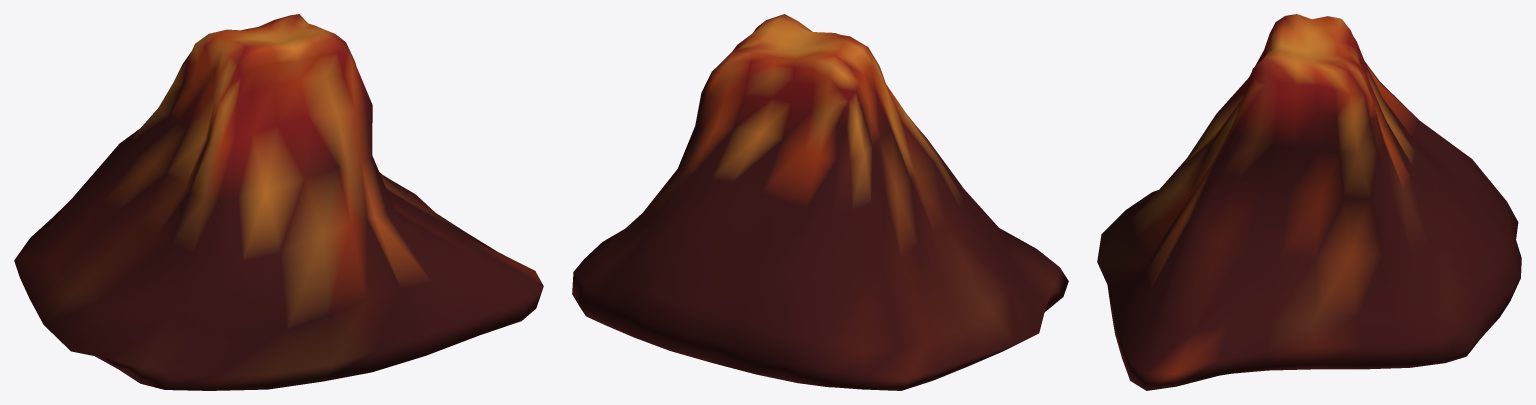
Rendered from Prop_volcano_z.fbx.
The picture shows the model from 3 angles, left to right: view 1: azimuth 30°, elevation 25°; view 2: azimuth 150°, elevation 25°; view 3: azimuth 270°, elevation 25°; orthographic projection.
Parts seen in each view (by area): view 1: Prop_volcano_z; view 2: Prop_volcano_z; view 3: Prop_volcano_z.
Part boxes in pixels (left/top/right/bottom): Prop_volcano_z: left=14, top=14, right=543, bottom=390; Prop_volcano_z: left=572, top=14, right=1068, bottom=390; Prop_volcano_z: left=1097, top=14, right=1521, bottom=390.
Size of the model in its own units: 5.29 by 3.4 by 4.66.
